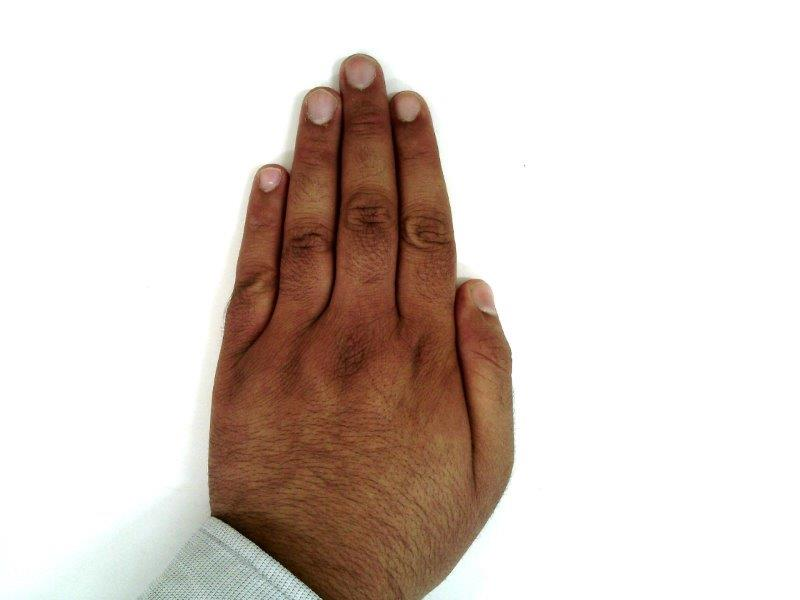hand: (207, 54, 516, 570)
